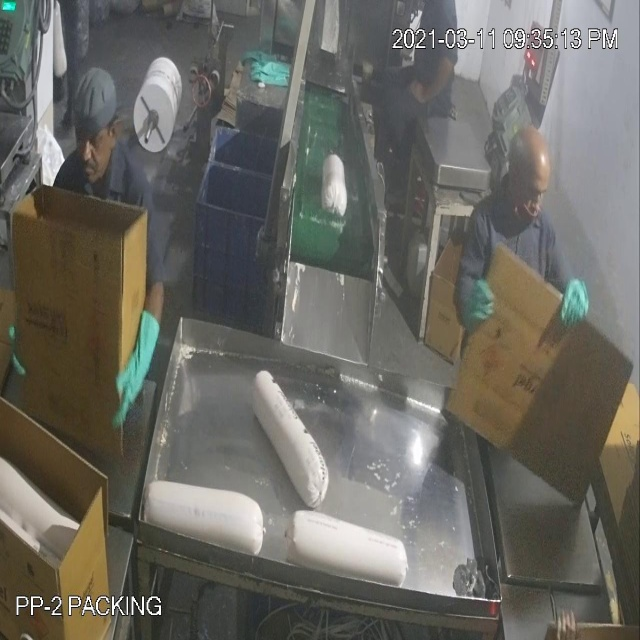Guantes: (108, 313, 169, 426)
Sin_guantes: (406, 52, 459, 108)
